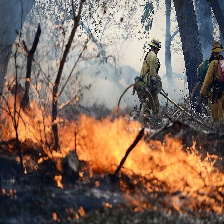fire: (3, 90, 224, 213)
smoke: (5, 1, 138, 101)
